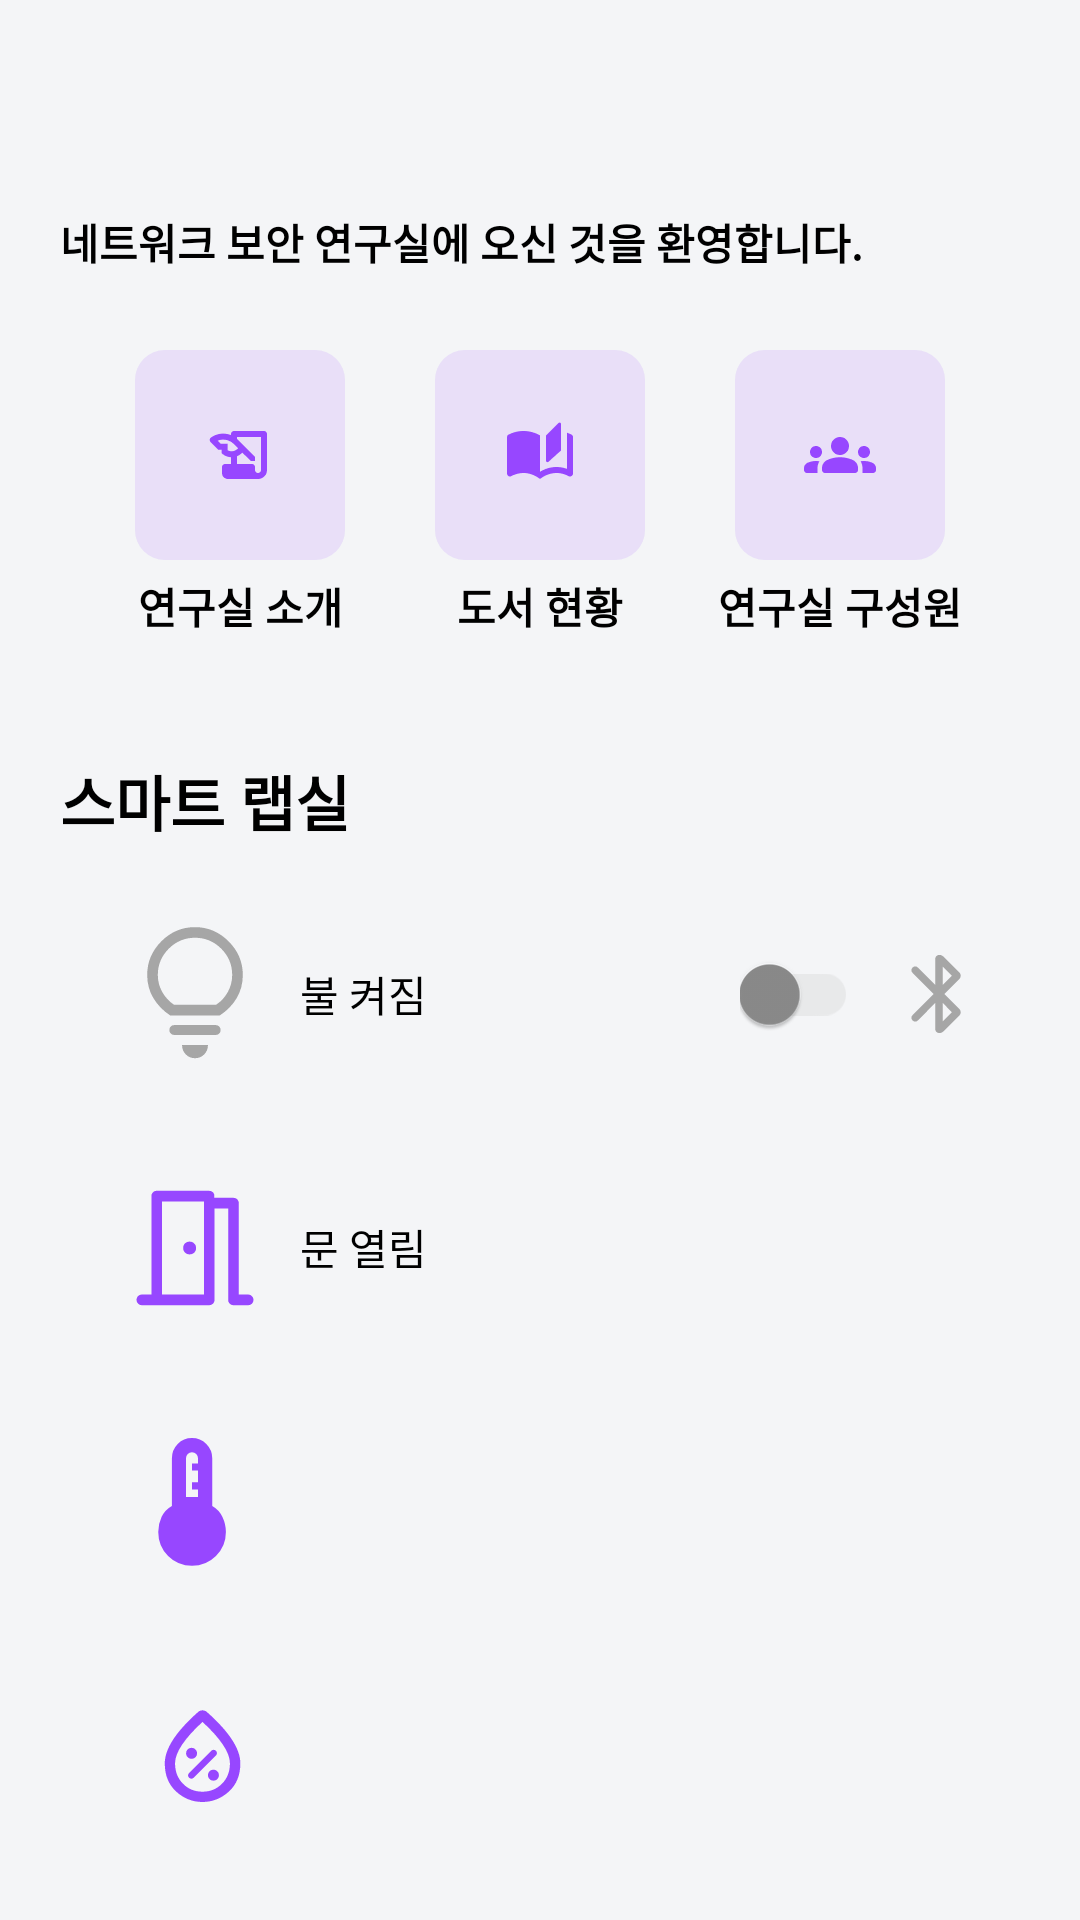

Screen size 1080 x 1920. Icon name, then its center in pixels as [x,y]:
book: [540,450]
